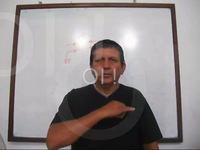oi: (96, 98, 135, 121)
